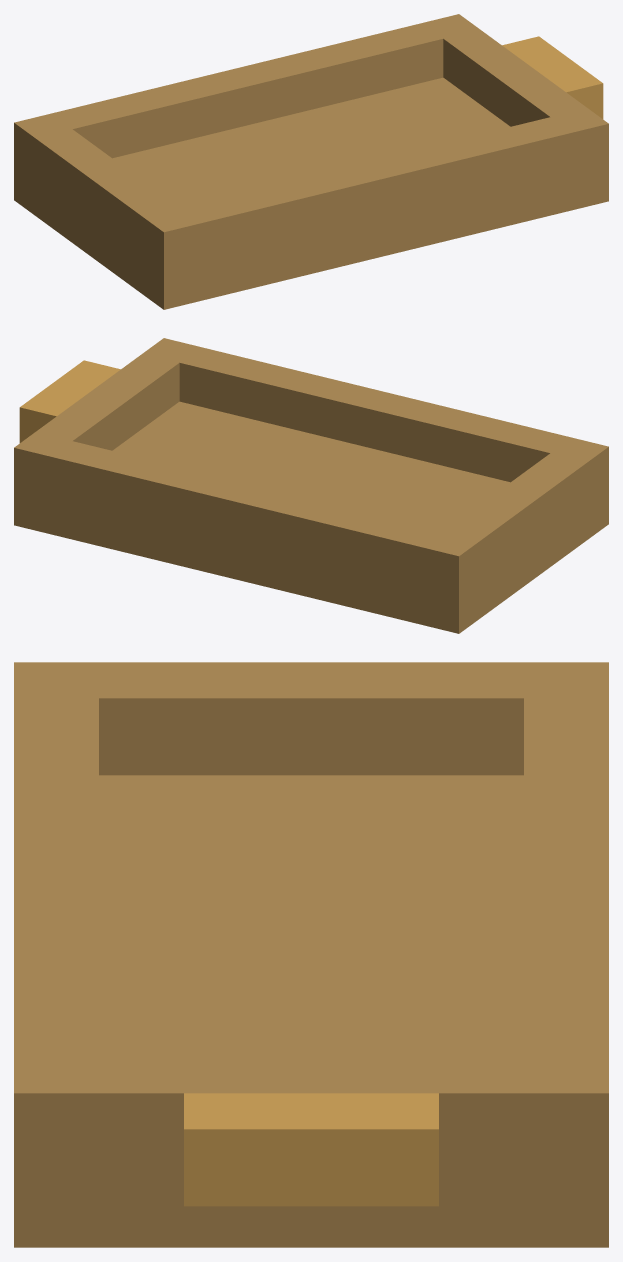
File: Cabinet00-drawer0.gltf
The picture shows the model from 3 angles, top to bottom: view 1: azimuth 30°, elevation 25°; view 2: azimuth 150°, elevation 25°; view 3: azimuth 270°, elevation 25°; orthographic projection. The views are drawn at different scales.
Bounding box in the file's own units: 13 × 2 × 7.
